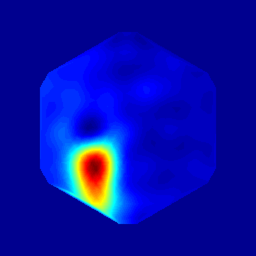ship: (83, 119, 99, 149)
wave: (83, 142, 99, 188)
